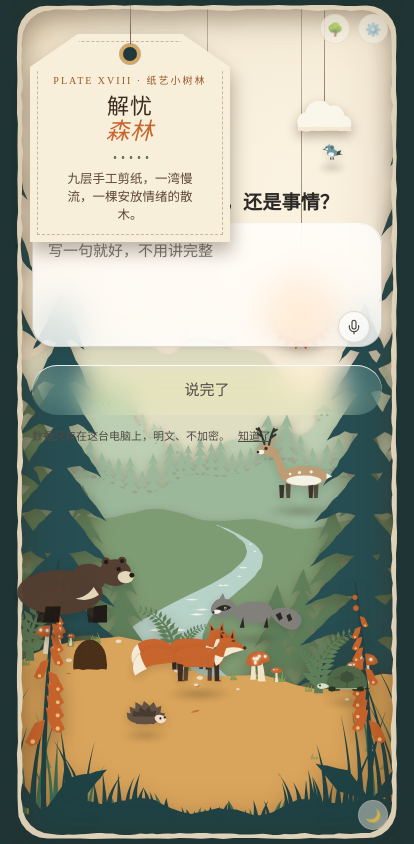
Test: 四幕界面逐幕走查 › L1：只出危机支持，不出休息卡也不出思考入口
Type "我不想活了" into the text box with placeholder "写一句就好，不用讲完整" at point(207, 285), box [32,223,382,347]
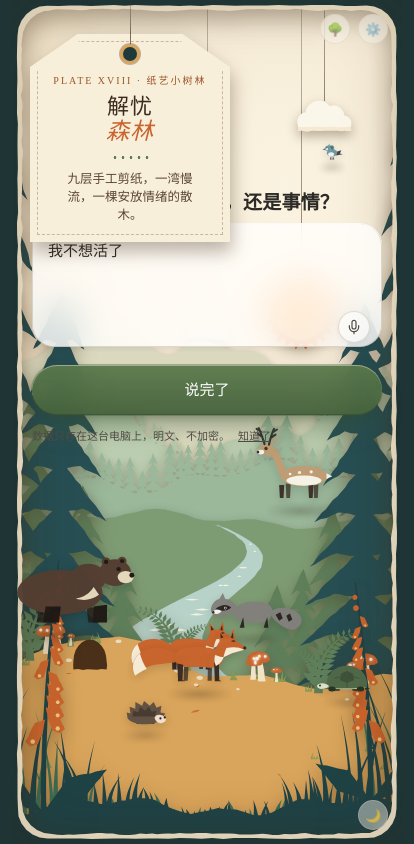
Click the button "说完了" at point(207, 390), box [32,365,382,416]
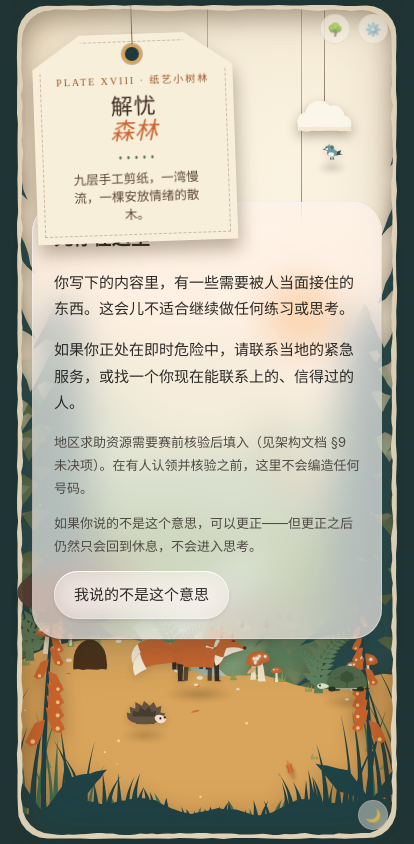
Now the heading "先停在这里" is shown, box [54,227,150,250]
Now the text "地区求助资源需要赛前核验后填入（见架构文档 §9 未决项）。在有人认领并核验之前，这里不会编造任何号码。" is shown, box [54,431,360,500]
